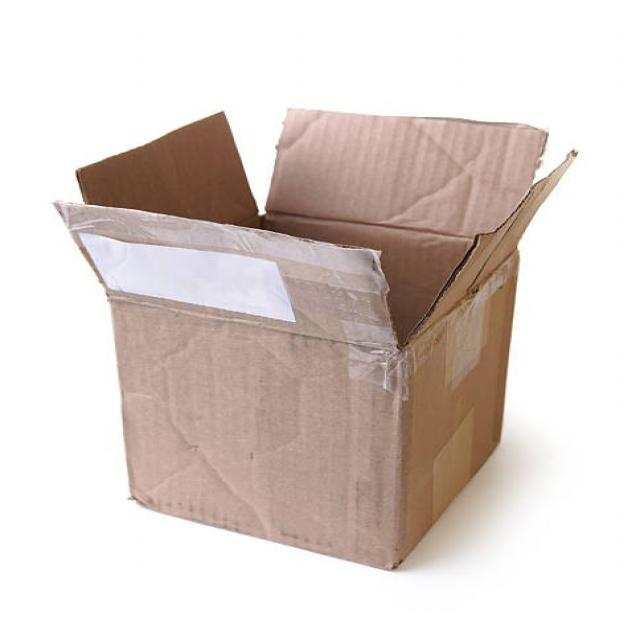tear: (103, 110, 522, 347)
